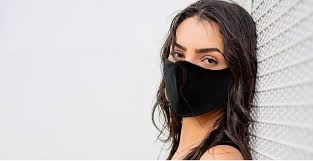with-mask: (158, 7, 248, 117)
